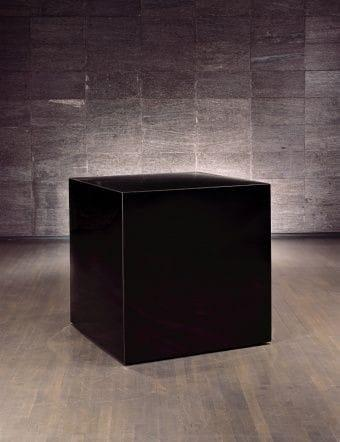cubos: (56, 161, 288, 374)
